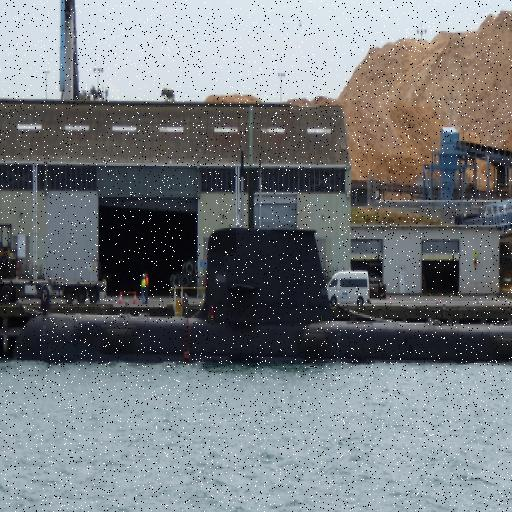submarine: (16, 234, 512, 363)
